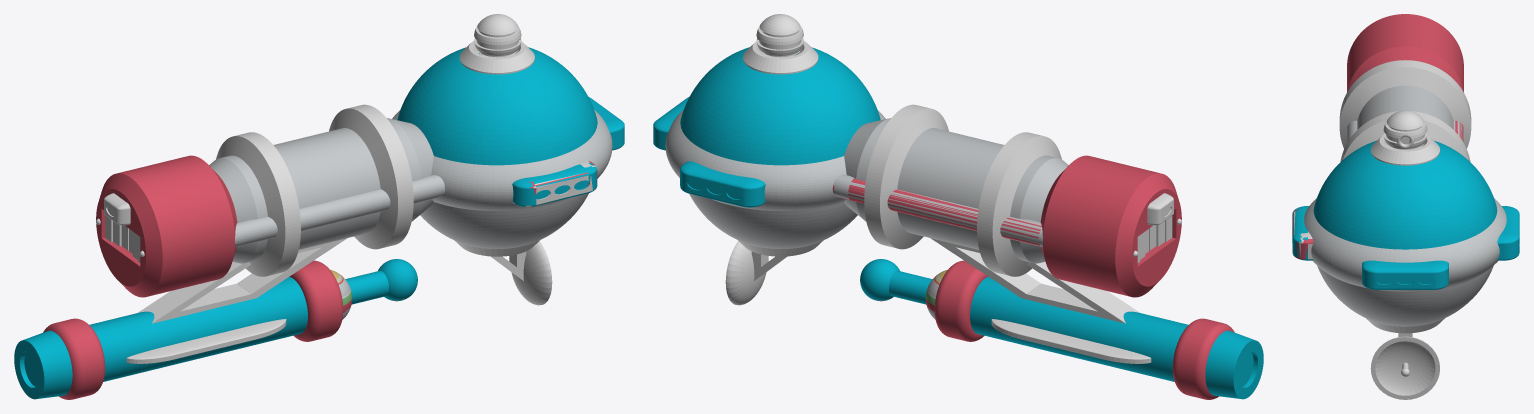
Rendered from Earth Frigate v2 FINAL (2).glb.
3 views of the same model, side by side, from view 1: azimuth 30°, elevation 25°; view 2: azimuth 150°, elevation 25°; view 3: azimuth 270°, elevation 25° (orthographic). The views are drawn at different scales.
Parts seen in each view (by area): view 1: Mesh_Mesh_head_geo.001_lambert2SG.001; view 2: Mesh_Mesh_head_geo.001_lambert2SG.001; view 3: Mesh_Mesh_head_geo.001_lambert2SG.001.
Boxes of the visible parts, x1,y1,x2,y2 form: Mesh_Mesh_head_geo.001_lambert2SG.001: (14,14,624,399); Mesh_Mesh_head_geo.001_lambert2SG.001: (653,14,1263,399); Mesh_Mesh_head_geo.001_lambert2SG.001: (1292,14,1519,399).
Bounding box in the file's own units: 97.4 × 47.5 × 36.
